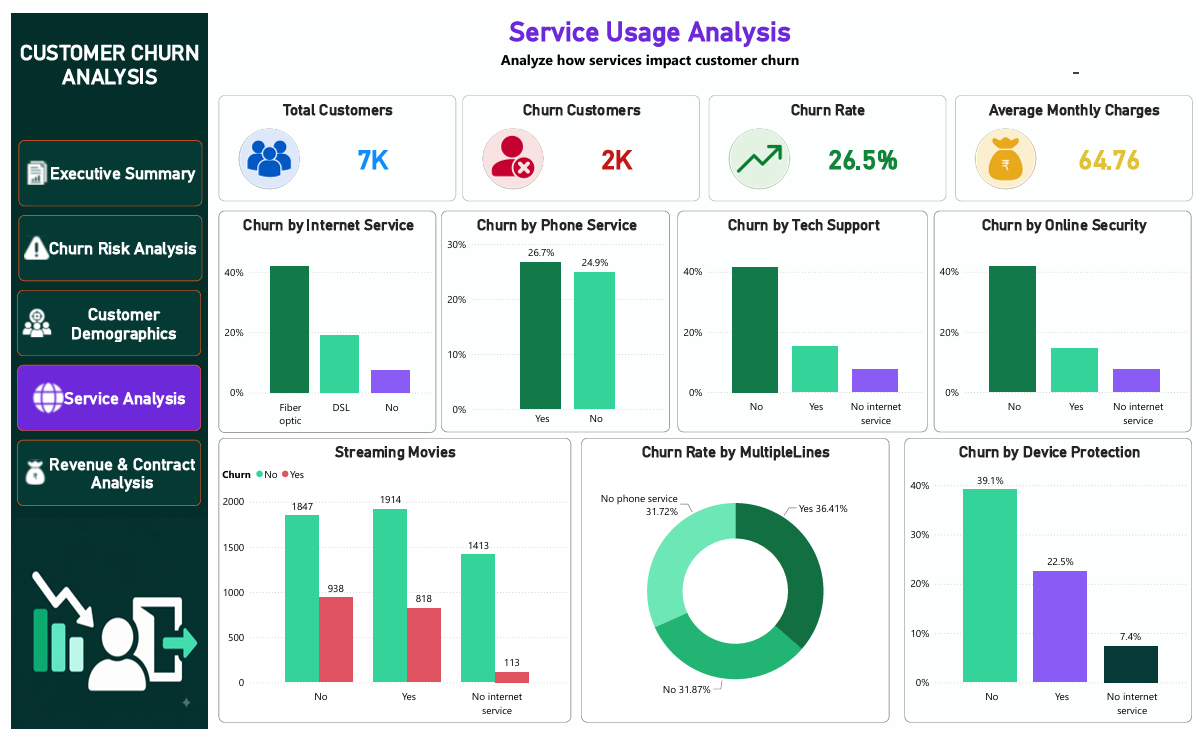

The dashboard page shown, as its layout file describes it:
{"tool":"powerbi","page":{"name":"Service Analysis","canvas":[1900,1145],"ordinal":3},"visuals":[{"type":"shape","box":[0,0,315,1400],"z":0,"group":"g1"},{"type":"cardVisual","title":"Total Customers","fields":{"Data":["Measure_tbl.Total Customers"]},"box":[332,130,380,170],"z":0},{"type":"cardVisual","title":"Churn Customers","fields":{"Data":["Measure_tbl.Churn Customers"]},"box":[722,130,380,170],"z":1000},{"type":"actionButton","box":[12,202,294,106],"z":1000,"group":"g1"},{"type":"cardVisual","title":"Churn Rate","fields":{"Data":["Measure_tbl.Churn Rate"]},"box":[1116,130,380,170],"z":2000},{"type":"actionButton","box":[12,322,294,106],"z":2000,"group":"g1"},{"type":"cardVisual","title":"Average Monthly Charges","fields":{"Data":["Measure_tbl.Average Monthly Charges"]},"box":[1510,130,380,170],"z":3000},{"type":"actionButton","box":[10,442,294,106],"z":3000,"group":"g1"},{"type":"clusteredColumnChart","title":"Churn by Phone Service","fields":{"Y":["Measure_tbl.Churn Rate"],"Category":["DimService.PhoneService"]},"box":[688,315,366,355],"z":4000},{"type":"actionButton","box":[10,562,294,106],"z":4000,"group":"g1"},{"type":"clusteredColumnChart","title":"Churn by Internet Service","fields":{"Y":["Measure_tbl.Churn Rate"],"Category":["DimService.InternetService"]},"box":[332,315,348,356],"z":5000},{"type":"actionButton","box":[10,682,294,106],"z":5000,"group":"g1"},{"type":"clusteredColumnChart","title":"Streaming Movies","fields":{"Category":["DimService.StreamingMovies"],"Y":["Measure_tbl.Total Customers"],"Series":["FactCustomer.Churn"]},"box":[331.6,679.3,564.6,455.3],"z":6000},{"type":"textbox","title":"Service Usage Analysis","box":[332,4,1380,96],"z":7000},{"type":"clusteredColumnChart","title":"Churn by Tech Support","fields":{"Y":["Measure_tbl.Churn Rate"],"Category":["DimService.TechSupport"]},"box":[1066,315,400,355],"z":8000},{"type":"clusteredColumnChart","title":"Churn by Online Security","fields":{"Y":["Measure_tbl.Churn Rate"],"Category":["DimService.OnlineSecurity"]},"box":[1476,315,412,355],"z":9000},{"type":"clusteredColumnChart","title":"Churn by Device Protection","fields":{"Category":["DimService.DeviceProtection"],"Y":["Measure_tbl.Churn Rate"]},"box":[1428.6,679.3,460.7,455.3],"z":10000},{"type":"donutChart","fields":{"Category":["DimService.MultipleLines"],"Y":["Measure_tbl.Churn Rate"]},"box":[912.3,679.3,492.9,455.3],"z":11000},{"type":"group","id":"g1","title":"Group 2","box":[0,0,315,1400],"z":12000},{"type":"textbox","box":[0,38,316,116],"z":13000},{"type":"image","box":[1.8,808.4,313.7,337],"z":14000}]}

Visuals, with their boxes in screenshot pixels (x1, y1, x2, y2), scaled from the page's 1900x1145 canvas onto the 1202x735 screenshot:
shape: 0, 0, 199, 734
"Total Customers" cardVisual: 210, 83, 450, 193
"Churn Customers" cardVisual: 457, 83, 697, 193
actionButton: 8, 130, 194, 198
"Churn Rate" cardVisual: 706, 83, 946, 193
actionButton: 8, 207, 194, 275
"Average Monthly Charges" cardVisual: 955, 83, 1196, 193
actionButton: 6, 284, 192, 352
"Churn by Phone Service" clusteredColumnChart: 435, 202, 667, 430
actionButton: 6, 361, 192, 429
"Churn by Internet Service" clusteredColumnChart: 210, 202, 430, 431
actionButton: 6, 438, 192, 506
"Streaming Movies" clusteredColumnChart: 210, 436, 567, 728
"Service Usage Analysis" textbox: 210, 3, 1083, 64
"Churn by Tech Support" clusteredColumnChart: 674, 202, 927, 430
"Churn by Online Security" clusteredColumnChart: 934, 202, 1194, 430
"Churn by Device Protection" clusteredColumnChart: 904, 436, 1195, 728
donutChart - DimService.MultipleLines x Measure_tbl.Churn Rate: 577, 436, 889, 728
"Group 2" group: 0, 0, 199, 734
textbox: 0, 24, 200, 99
image: 1, 519, 200, 734
